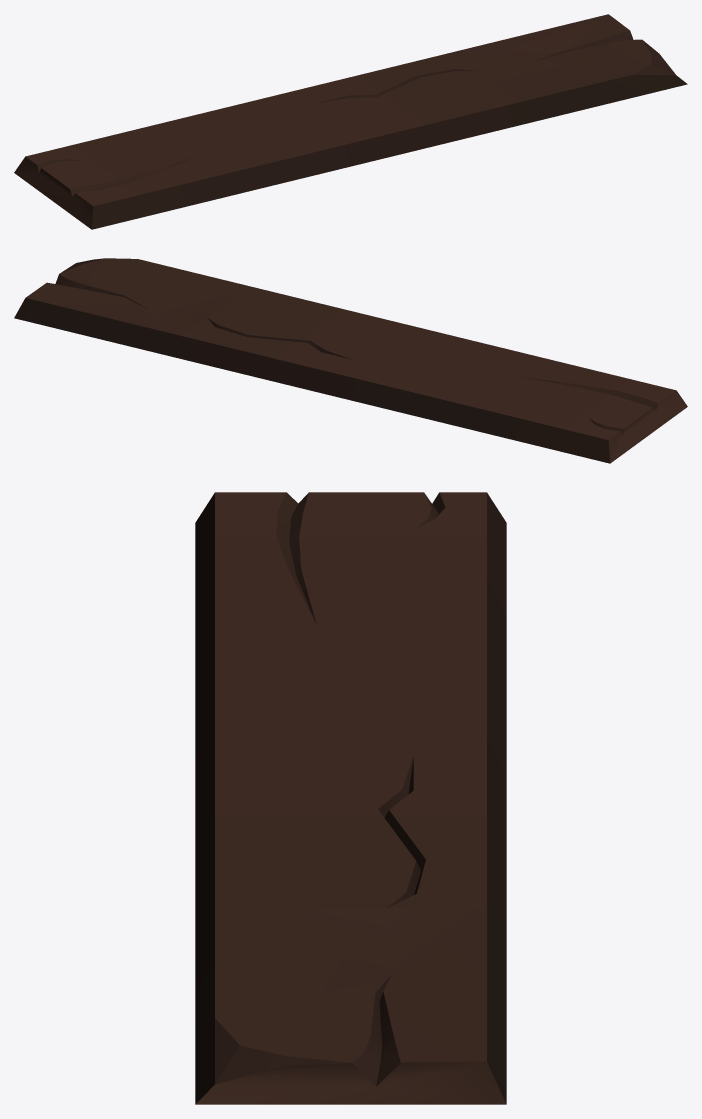
The model's file is SM_Shelf01.fbx.
The picture shows the model from 3 angles, top to bottom: view 1: azimuth 30°, elevation 25°; view 2: azimuth 150°, elevation 25°; view 3: azimuth 270°, elevation 25°; orthographic projection. The views are drawn at different scales.
Visible parts, largest first — view 1: shelf_01; view 2: shelf_01; view 3: shelf_01.
Part boxes in pixels (x1=…): shelf_01: x1=14, y1=14, x2=687, y2=229; shelf_01: x1=14, y1=258, x2=687, y2=463; shelf_01: x1=195, y1=492, x2=506, y2=1104.
Bounding box in the file's own units: 247 × 7.29 × 55.95.
